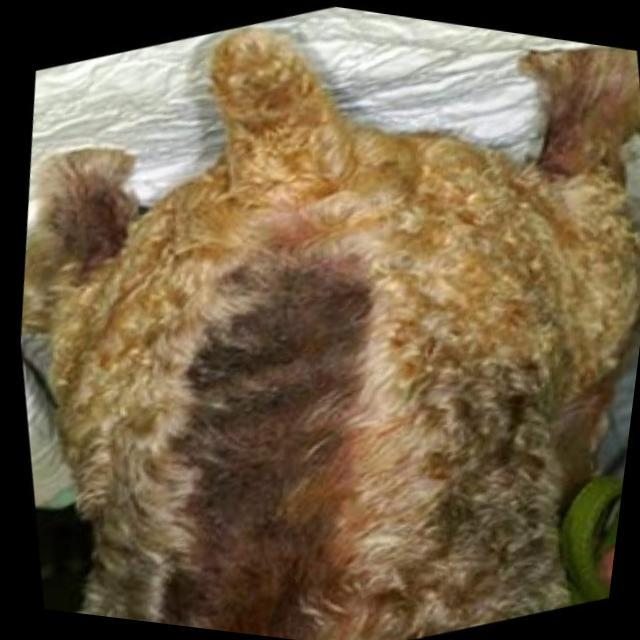allergic dermatitis: (165, 240, 370, 640)
